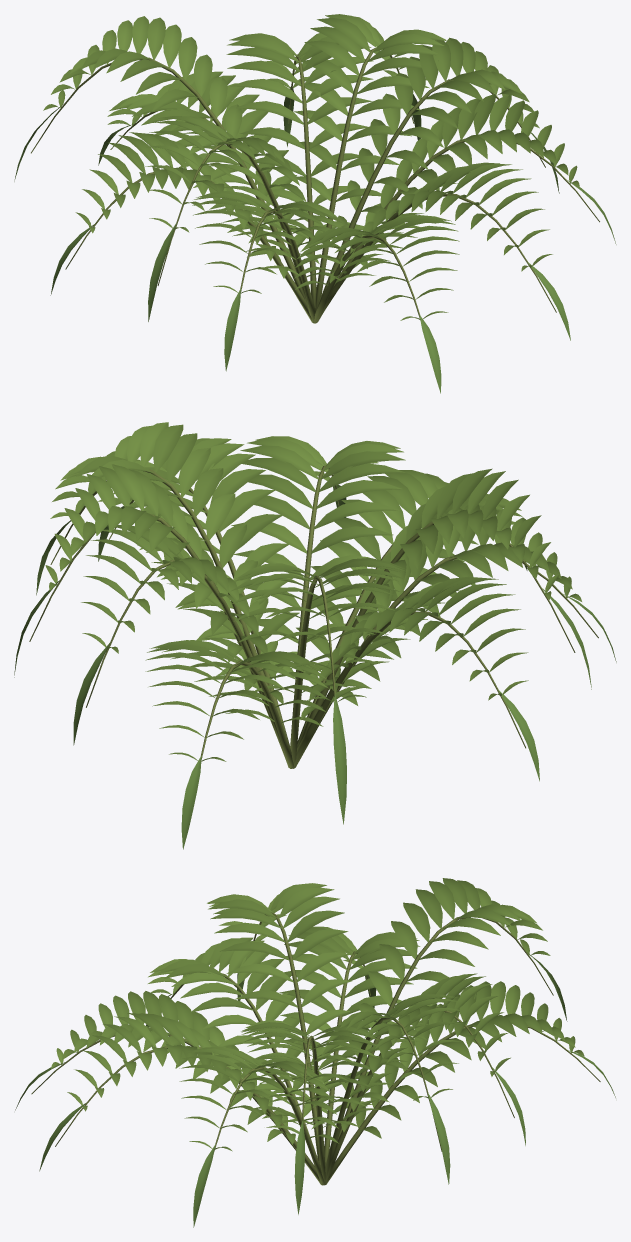
File: fern_0_lod0.glb
3 renders of one model, top to bottom at view 1: azimuth 30°, elevation 25°; view 2: azimuth 150°, elevation 25°; view 3: azimuth 270°, elevation 25°, orthographic. The views are drawn at different scales.
Visible parts, largest first — view 1: fern_0_lod0; view 2: fern_0_lod0; view 3: fern_0_lod0.
Boxes of the visible parts, x1=… form: fern_0_lod0: x1=14, y1=14, x2=616, y2=393; fern_0_lod0: x1=14, y1=422, x2=616, y2=849; fern_0_lod0: x1=15, y1=878, x2=615, y2=1227.
Size of the model in its own units: 1.48 by 0.7548 by 1.72.
